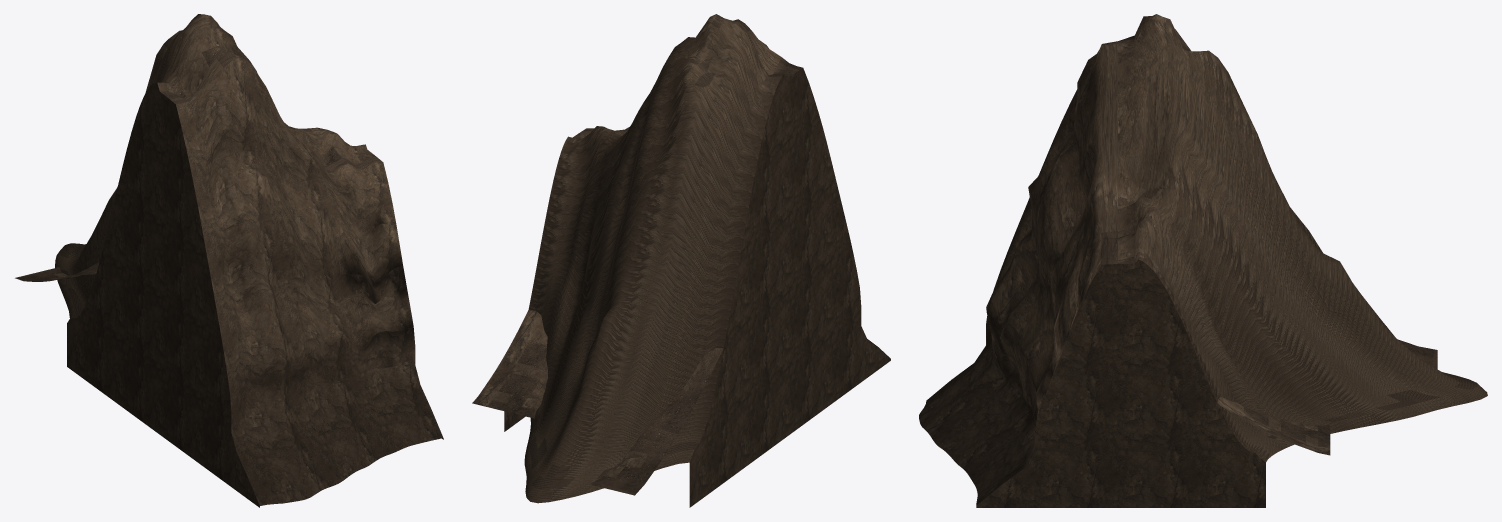
Rendered from seacliff_step_h8h5_v5_dead.glb.
3 views of the same model, side by side, from view 1: azimuth 30°, elevation 25°; view 2: azimuth 150°, elevation 25°; view 3: azimuth 270°, elevation 25° (orthographic). The views are drawn at different scales.
Parts seen in each view (by area): view 1: seacliff_step_h8h5; view 2: seacliff_step_h8h5; view 3: seacliff_step_h8h5.
Part boxes in pixels (bbox=[...]): seacliff_step_h8h5: bbox=[15, 14, 443, 507]; seacliff_step_h8h5: bbox=[472, 14, 890, 507]; seacliff_step_h8h5: bbox=[919, 14, 1487, 507].
Bounding box in the file's own units: 6 × 11.02 × 13.67.
2 materials, 2 textured.
